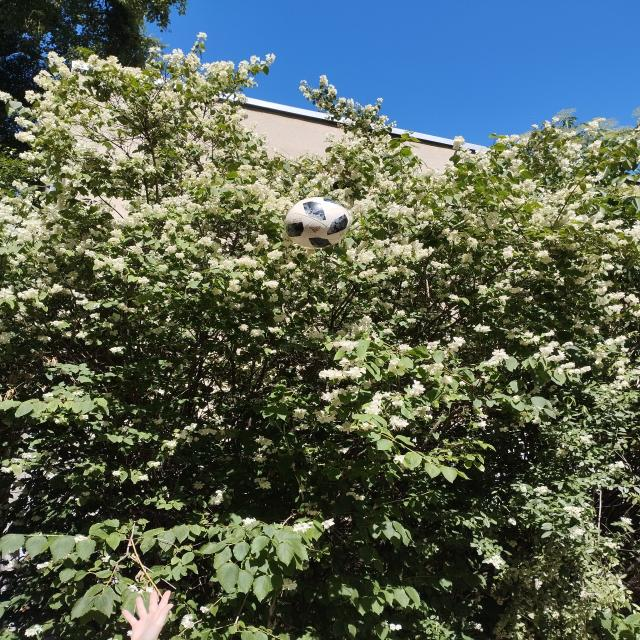nozna: (284, 197, 350, 248)
